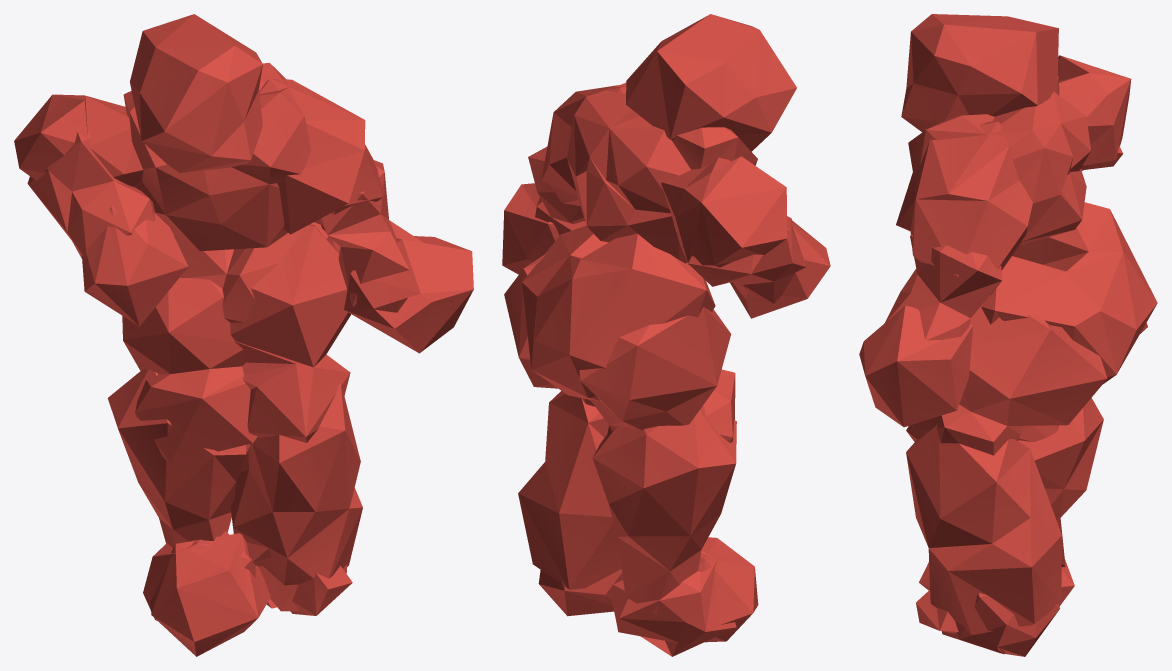
The model's file is dance_frames0365.obj.
3 renders of one model, left to right at view 1: azimuth 30°, elevation 25°; view 2: azimuth 150°, elevation 25°; view 3: azimuth 270°, elevation 25°, orthographic. The views are drawn at different scales.
Visible parts, largest first — view 1: Beta_Surface; view 2: Beta_Surface; view 3: Beta_Surface.
Part boxes in pixels (bbox=[...]): Beta_Surface: bbox=[14, 14, 473, 656]; Beta_Surface: bbox=[502, 14, 830, 656]; Beta_Surface: bbox=[859, 14, 1157, 656].
Bounding box in the file's own units: 1.18 × 1.92 × 0.8654.
